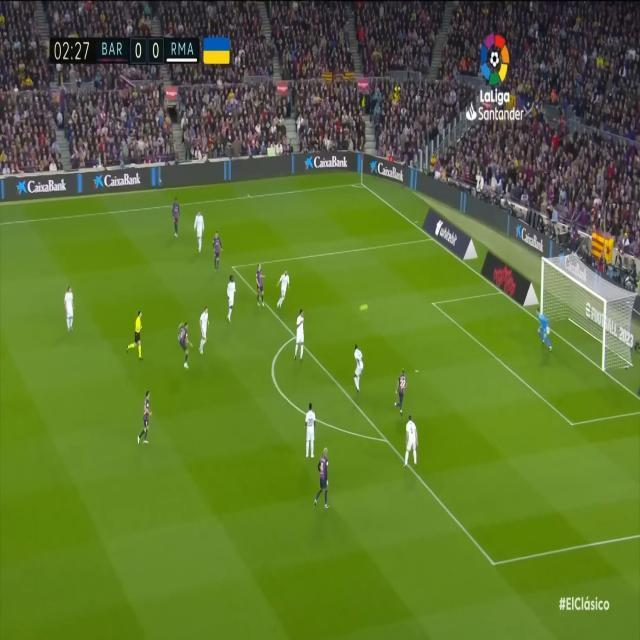goalkeeper: (533, 303, 567, 366)
player: (131, 385, 165, 466), (398, 405, 433, 476), (57, 271, 87, 346), (312, 443, 339, 524), (177, 308, 202, 381), (299, 397, 324, 468), (351, 330, 373, 407), (164, 194, 190, 259), (292, 303, 317, 370), (272, 257, 297, 318), (223, 263, 245, 332), (394, 352, 415, 423), (252, 253, 271, 320), (192, 194, 209, 259), (201, 302, 218, 360), (210, 227, 230, 275)
referee: (125, 303, 151, 370)
